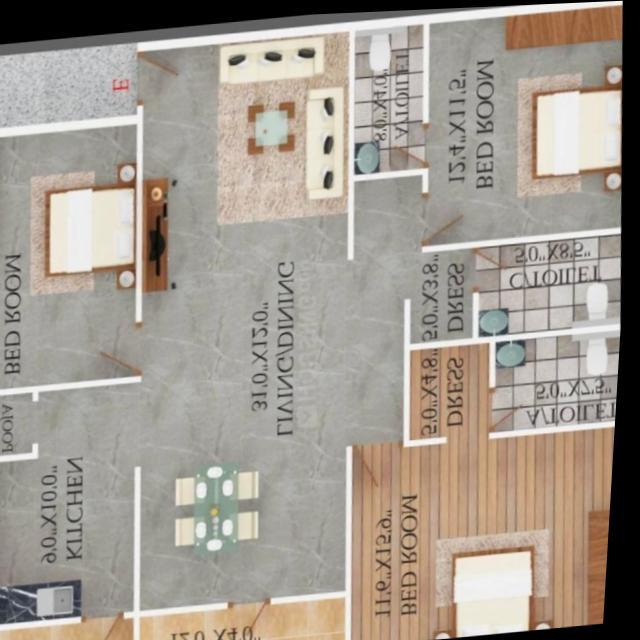Balcony-Sitout: (148, 599, 351, 640)
Bedroom: (0, 122, 137, 380)
Bedroom with Toilet: (356, 8, 625, 339), (357, 338, 624, 640)
Dining: (170, 445, 273, 557)
Dress: (421, 341, 495, 438), (415, 252, 474, 341)
Enterance-Foyer: (117, 44, 200, 115)
Kitchen: (0, 378, 140, 616)
Living: (144, 31, 350, 378)
Pooja: (0, 387, 36, 450)
Toilet: (487, 234, 623, 333), (503, 333, 624, 426), (352, 24, 427, 172)
Utility: (0, 613, 140, 640)
